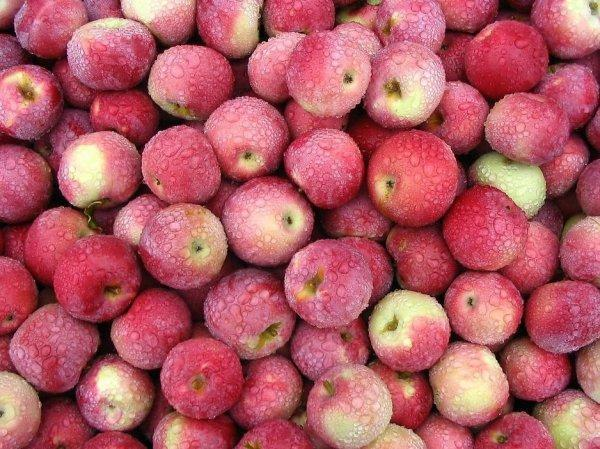apple: (370, 127, 459, 226), (201, 265, 294, 355), (223, 177, 313, 263), (307, 360, 391, 449), (9, 307, 98, 388), (141, 203, 226, 287), (364, 42, 448, 127), (283, 32, 369, 115), (443, 185, 528, 268), (55, 233, 139, 316), (288, 239, 370, 323), (368, 289, 450, 373), (462, 19, 550, 97), (62, 17, 156, 90), (147, 44, 237, 120), (160, 336, 242, 417), (205, 96, 286, 176), (141, 126, 222, 206), (59, 132, 140, 212), (284, 129, 364, 209), (71, 354, 156, 429), (432, 340, 507, 423), (446, 269, 523, 342), (484, 92, 566, 160), (527, 281, 600, 351), (1, 64, 64, 142)
